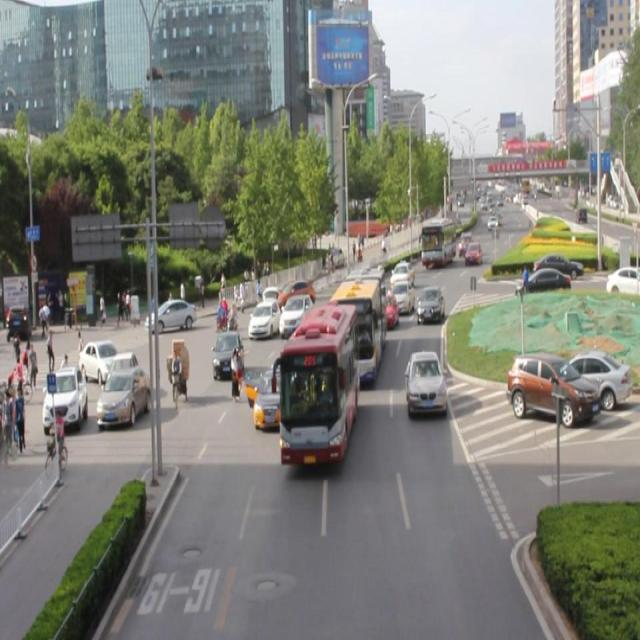car: (404, 351, 446, 415), (252, 363, 296, 424), (280, 292, 314, 337), (212, 328, 242, 377), (249, 296, 282, 340), (276, 282, 316, 312), (416, 285, 444, 325), (373, 291, 398, 330), (388, 282, 413, 314), (388, 261, 413, 290)
van: (280, 306, 355, 463), (329, 268, 384, 387)
